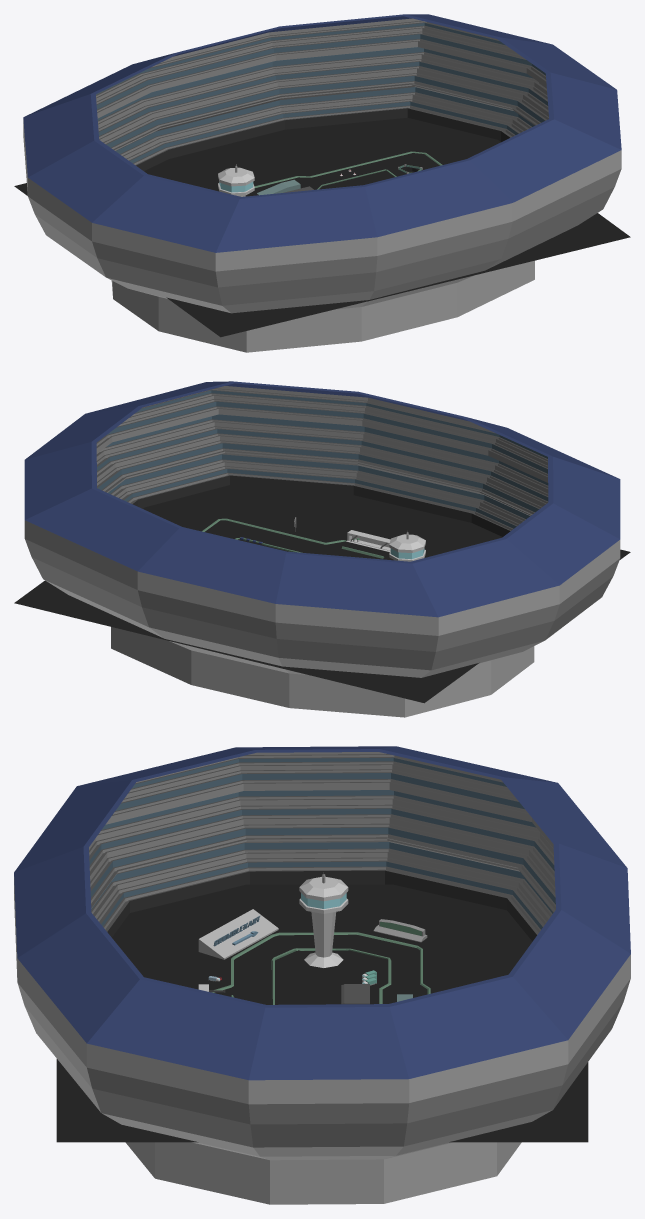
Rendered from crumble stadium.glb.
3 renders of one model, top to bottom at view 1: azimuth 30°, elevation 25°; view 2: azimuth 150°, elevation 25°; view 3: azimuth 270°, elevation 25°, orthographic. The views are drawn at different scales.
Parts seen in each view (by area): view 1: stadium, Plane, barriers, viewing tower; view 2: stadium, Plane, viewing tower, barriers, pit stop thing; view 3: stadium, Plane, viewing tower, crumblekart sign, barriers, sign 2.
Part boxes in pixels (left/top/right/bottom): stadium: left=23, top=14, right=621, bottom=352; Plane: left=14, top=117, right=630, bottom=337; barriers: left=254, top=151, right=442, bottom=195; viewing tower: left=218, top=164, right=254, bottom=196; stadium: left=24, top=381, right=620, bottom=717; Plane: left=14, top=485, right=630, bottom=703; viewing tower: left=389, top=531, right=425, bottom=561; barriers: left=202, top=518, right=384, bottom=558; pit stop thing: left=346, top=530, right=390, bottom=552; stadium: left=14, top=746, right=630, bottom=1204; Plane: left=56, top=884, right=588, bottom=1142; viewing tower: left=299, top=872, right=348, bottom=967; crumblekart sign: left=198, top=909, right=278, bottom=959; barriers: left=212, top=932, right=430, bottom=1004; sign 2: left=373, top=919, right=427, bottom=942.
Bounding box in the file's own units: 472 × 137 × 368.
Materials: 5 (4 with a texture image).
